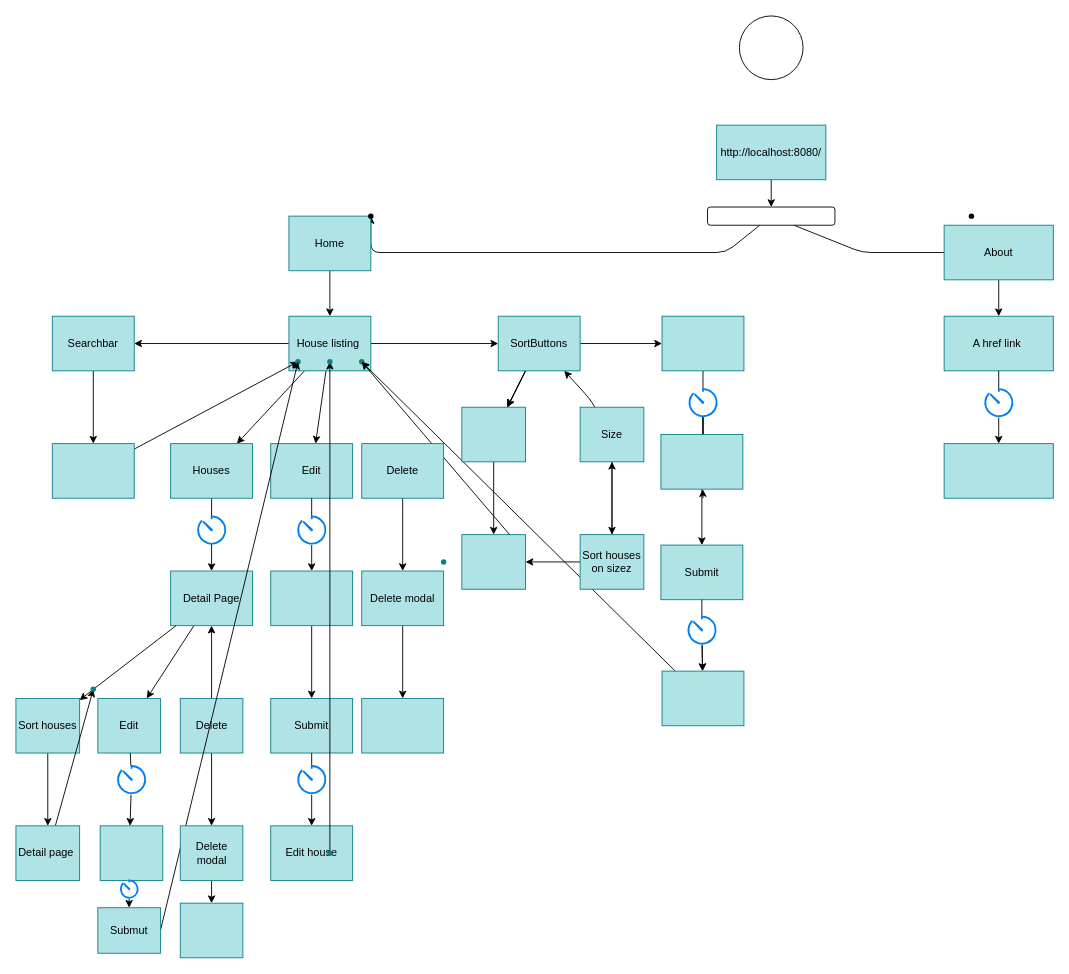
The diagram is 1069 pixels wide and 974 high, and some of its shapes have lost their labels. Each missing label, with the centre of its shape:
"A form input field" goes at pixel 131 852.
"A form input fields" goes at pixel 311 598.
"A form input fileds" goes at pixel 701 461.
"A new house" goes at pixel 702 698.
"Create new" goes at pixel 702 343.
"Delete house" goes at pixel 211 930.
"Deletes houses" goes at pixel 402 725.
"DTT Wesite" goes at pixel 998 470.
"Price" goes at pixel 493 434.
"Search house" goes at pixel 92 470.
"Sort houses on price" goes at pixel 493 561.
